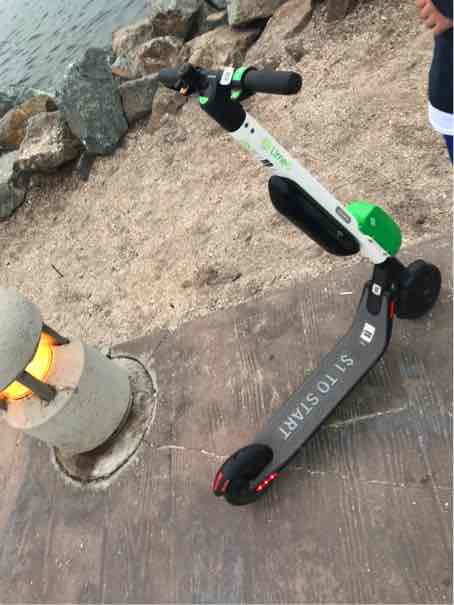scooter: (144, 58, 454, 513)
